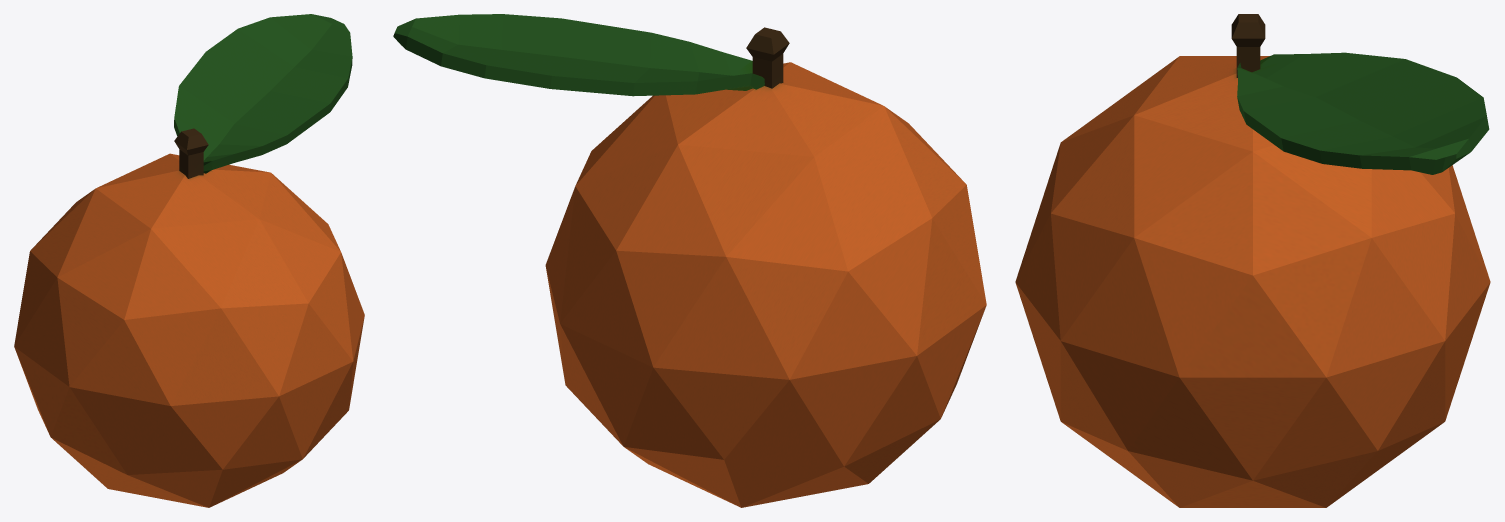
Rendered from orange-model2.glb.
3 renders of one model, left to right at view 1: azimuth 30°, elevation 25°; view 2: azimuth 150°, elevation 25°; view 3: azimuth 270°, elevation 25°, orthographic. The views are drawn at different scales.
Parts seen in each view (by area): view 1: orange; view 2: orange; view 3: orange.
Part boxes in pixels (x1,y1,x2,y2): orange: [14, 14, 364, 507]; orange: [393, 14, 986, 507]; orange: [1015, 14, 1490, 507].
Size of the model in its own units: 2.39 by 2.28 by 2.
Materials: 1 (1 with a texture image).
